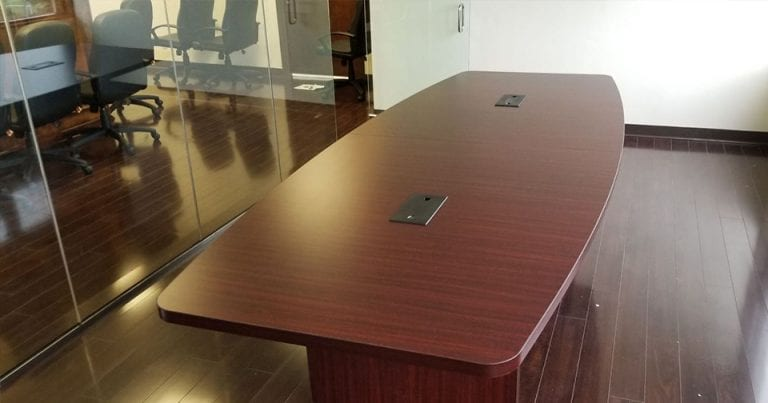conference_table: (157, 70, 624, 402)
